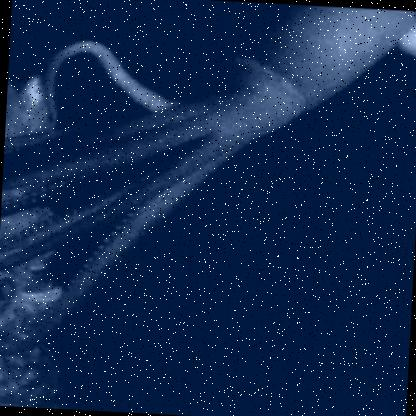colossal_squid: (0, 0, 415, 370)
